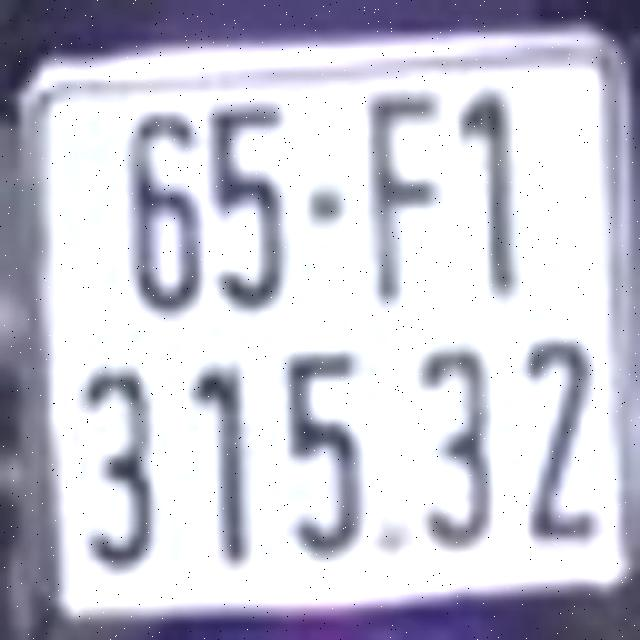1: (190, 360, 253, 565), (461, 87, 521, 296)
2: (526, 337, 600, 541)
3: (79, 363, 158, 572), (418, 344, 496, 550)
5: (286, 348, 366, 559), (208, 100, 287, 311)
6: (127, 107, 203, 314)
F: (367, 88, 443, 302)
